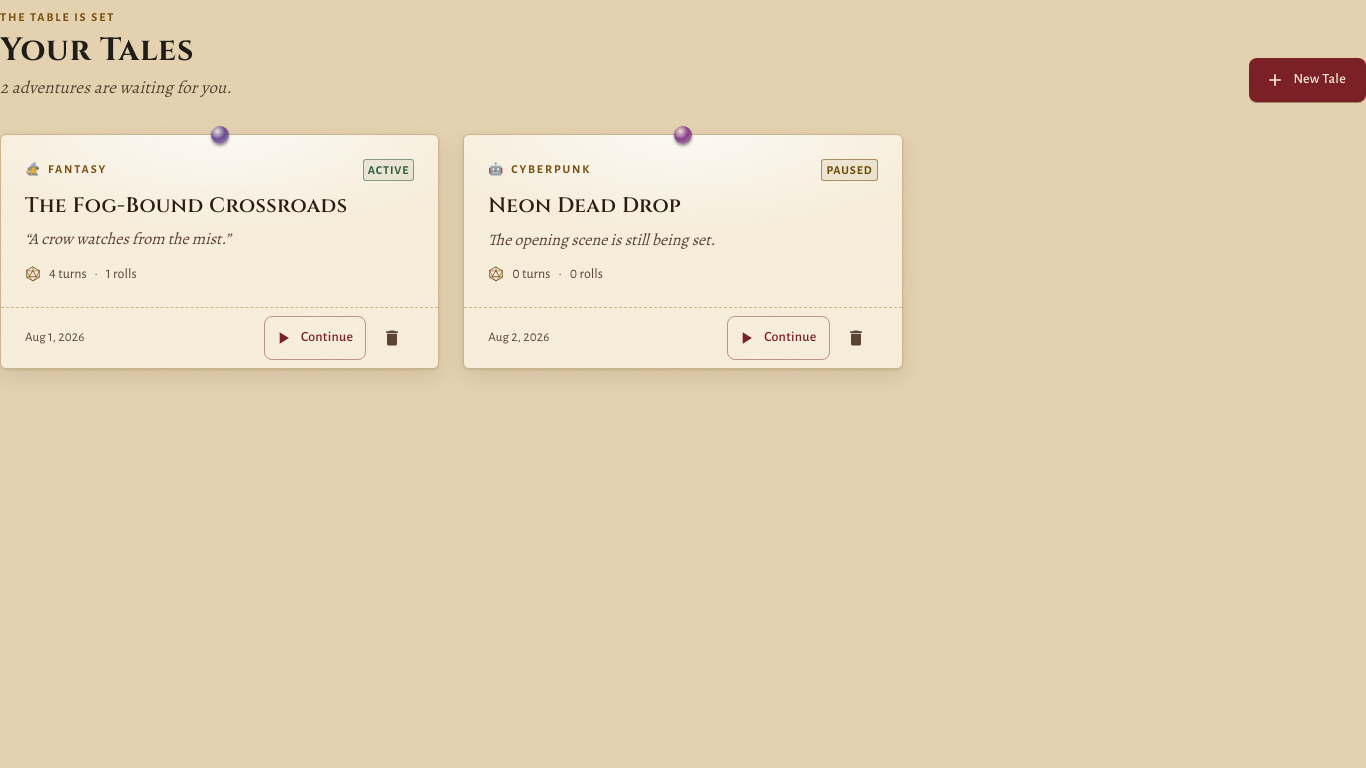
Scenario: StoryList › keeps Begin disabled until a prompt is entered
Expected: the heading "The Fog-Bound Crossroads" is shown, [25,192,348,220]
Click the button "New Tale" at (1308, 80), box [1249,58,1365,102]
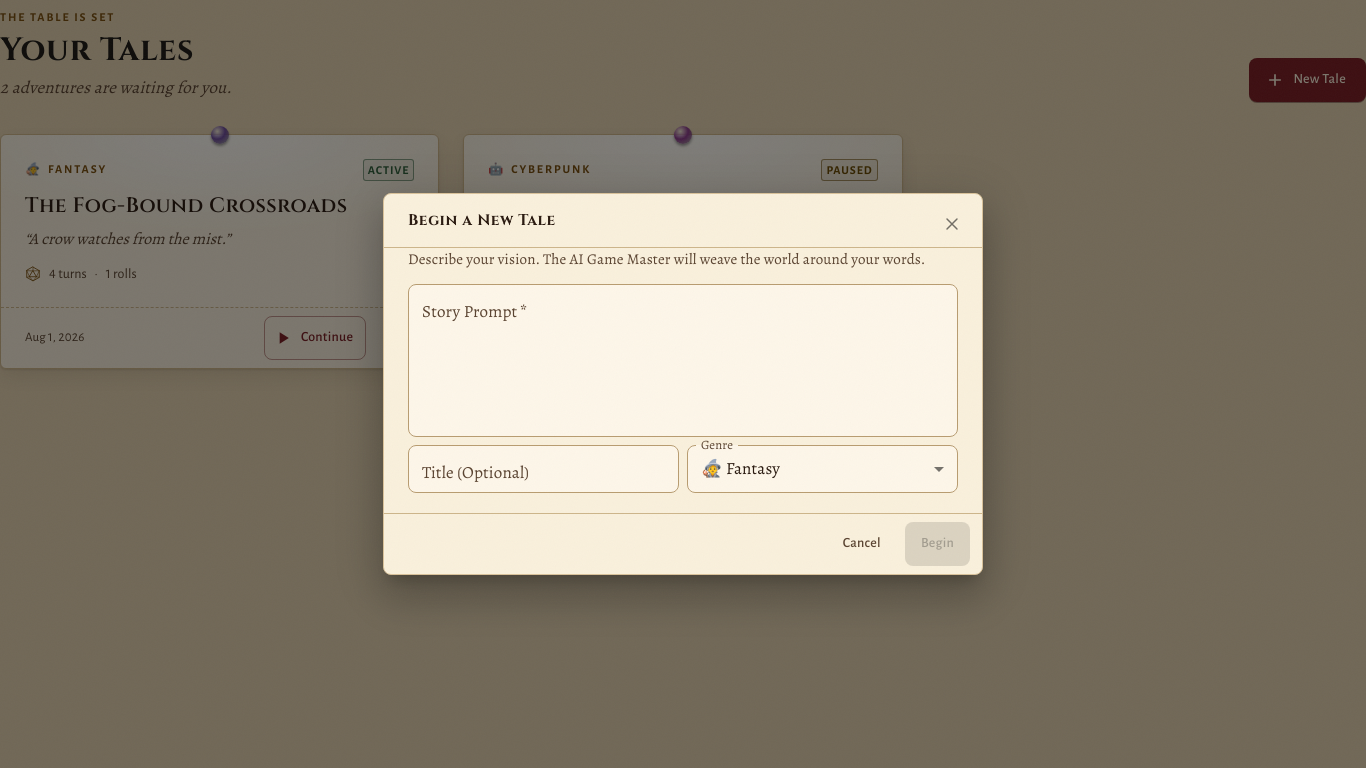
Result: the button "Begin" is disabled at [905,522,970,566]
